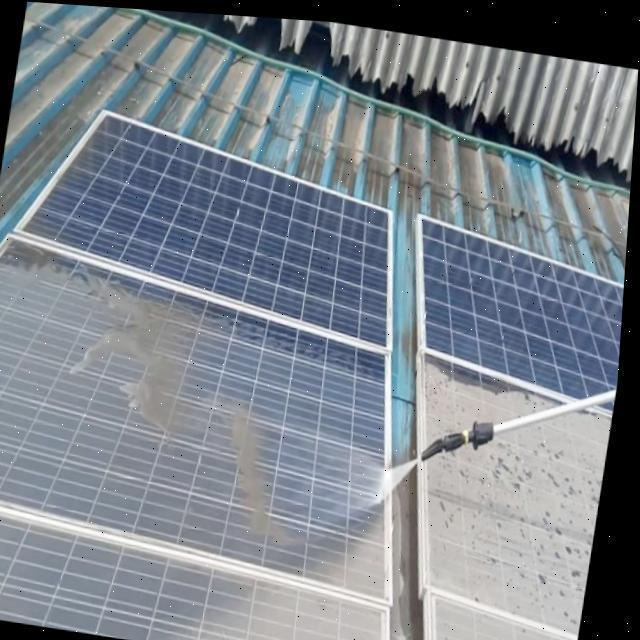Anomaly Solar Panel: (0, 231, 396, 640), (425, 344, 617, 640)
Normal Solar Panel: (18, 108, 396, 345), (422, 207, 627, 402)
Surface Contaminant: (0, 230, 393, 640), (423, 348, 617, 640)
